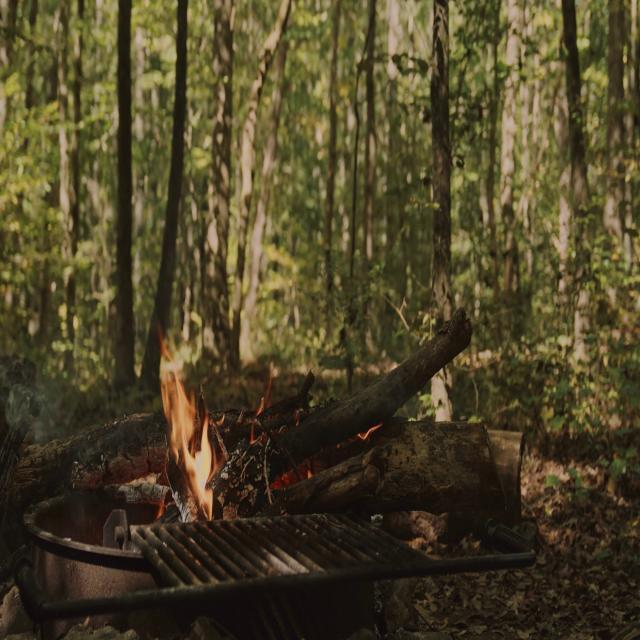Fire: (155, 322, 218, 522)
